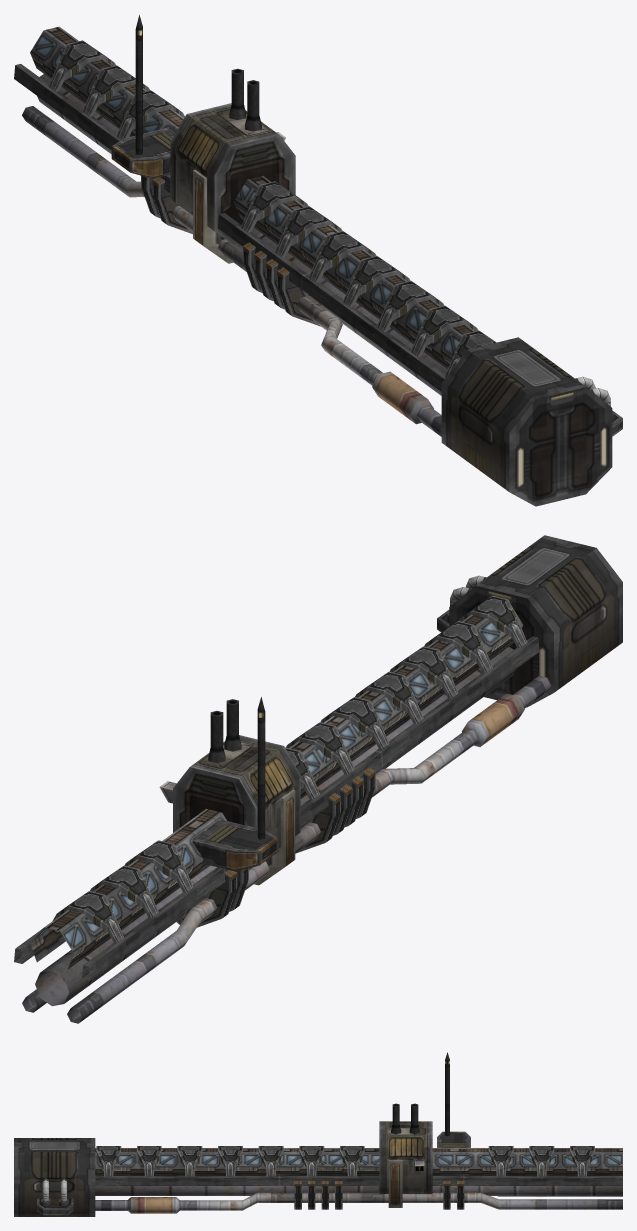
Rendered from gaspipe2.fbx.
3 views of the same model, one above another, from view 1: azimuth 30°, elevation 25°; view 2: azimuth 150°, elevation 25°; view 3: azimuth 270°, elevation 25° (orthographic). The views are drawn at different scales.
Parts seen in each view (by area): view 1: body; view 2: body; view 3: body.
Boxes of the visible parts, <box> form: body: <box>14,15,622,506</box>; body: <box>14,535,622,1023</box>; body: <box>14,1052,622,1216</box>.
Size of the model in its own units: 8.06 by 11.46 by 45.
1 material, 1 textured.
